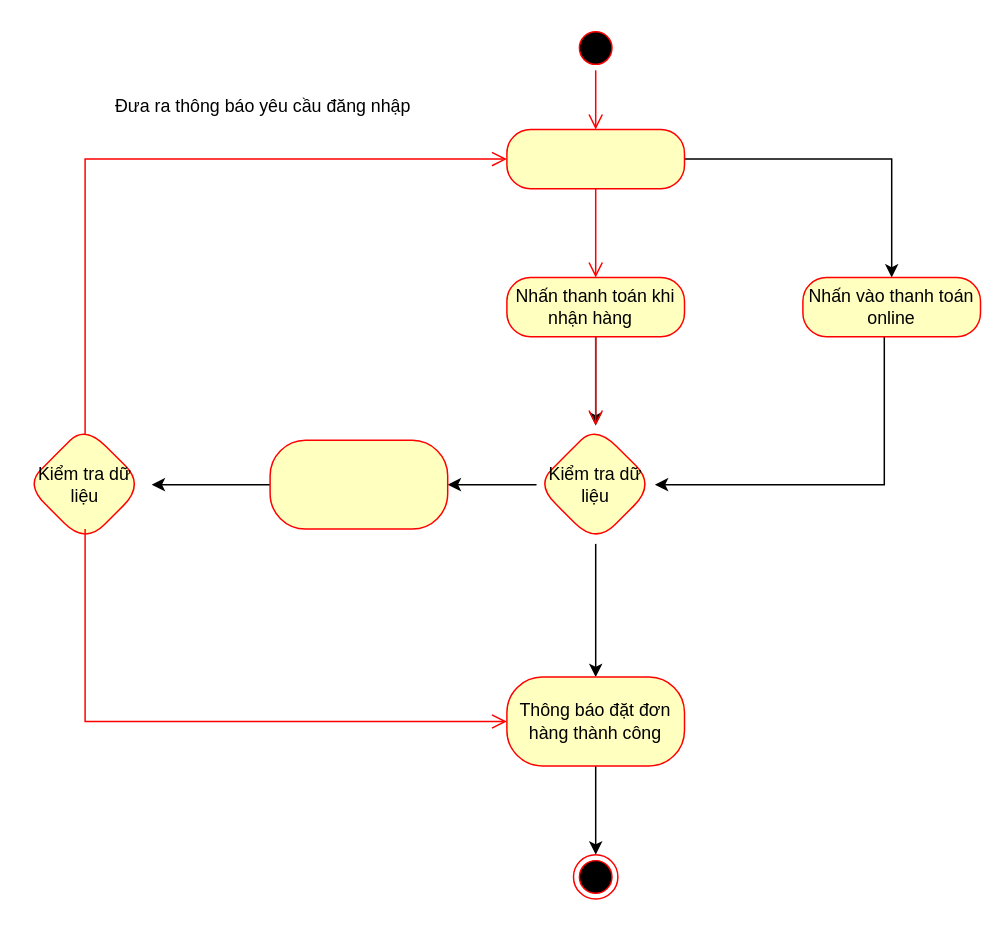
This 1006x925 diagram has some shape labels left out. The shapes that lost their labels are listed below. From the top down, each one's centre as x and y in pixels, then its label:
At point 594,158: "Mành hình thanh toán".
At point 358,484: "Chưa đăng nhập".
